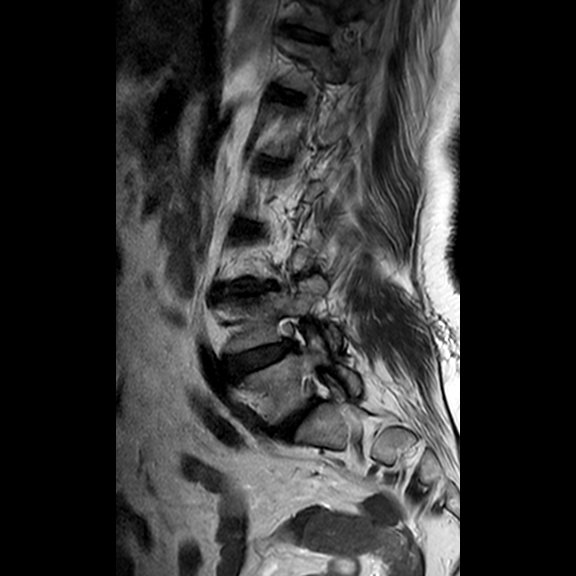RFS0: (268, 308, 317, 364)
